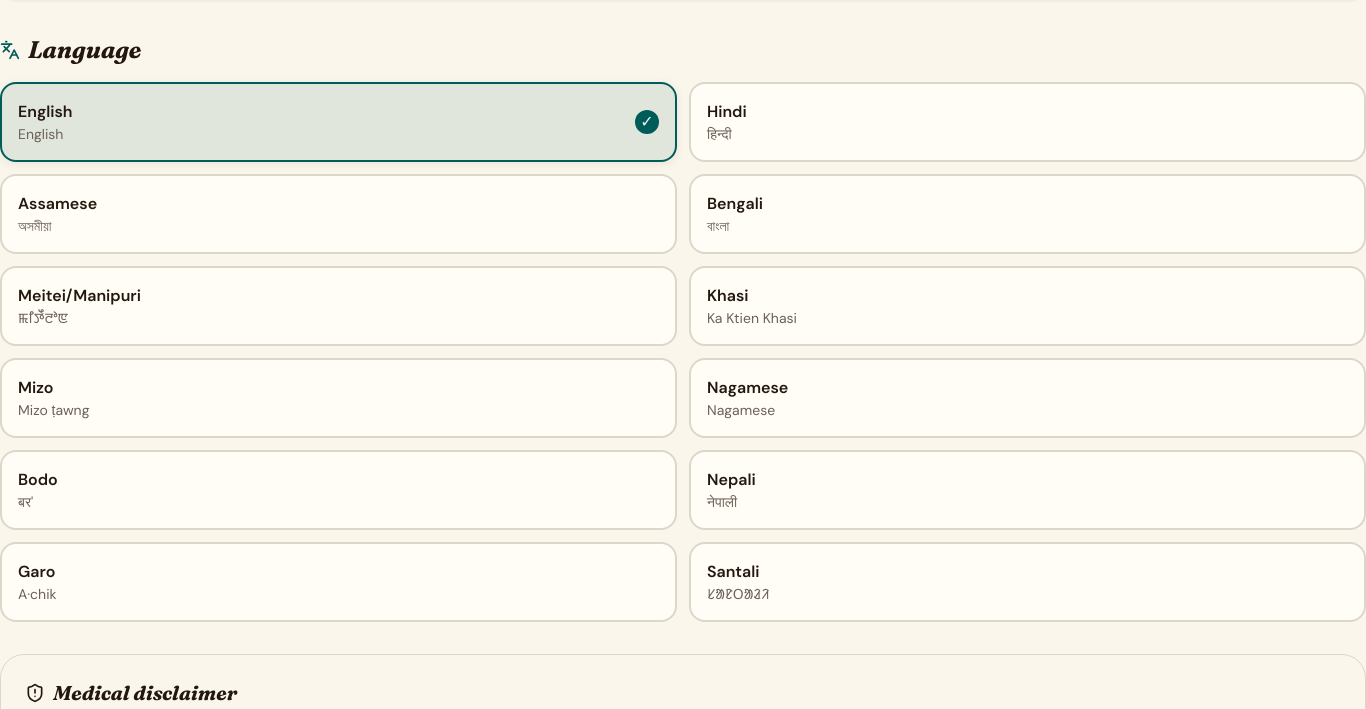
SettingsPage language picker › switches the interface to a new Northeast language when selected
(page scrolled)
Click the button with test id "settings.language.ne". click: (731, 480)
box: [689, 450, 1365, 530]
(page scrolled)
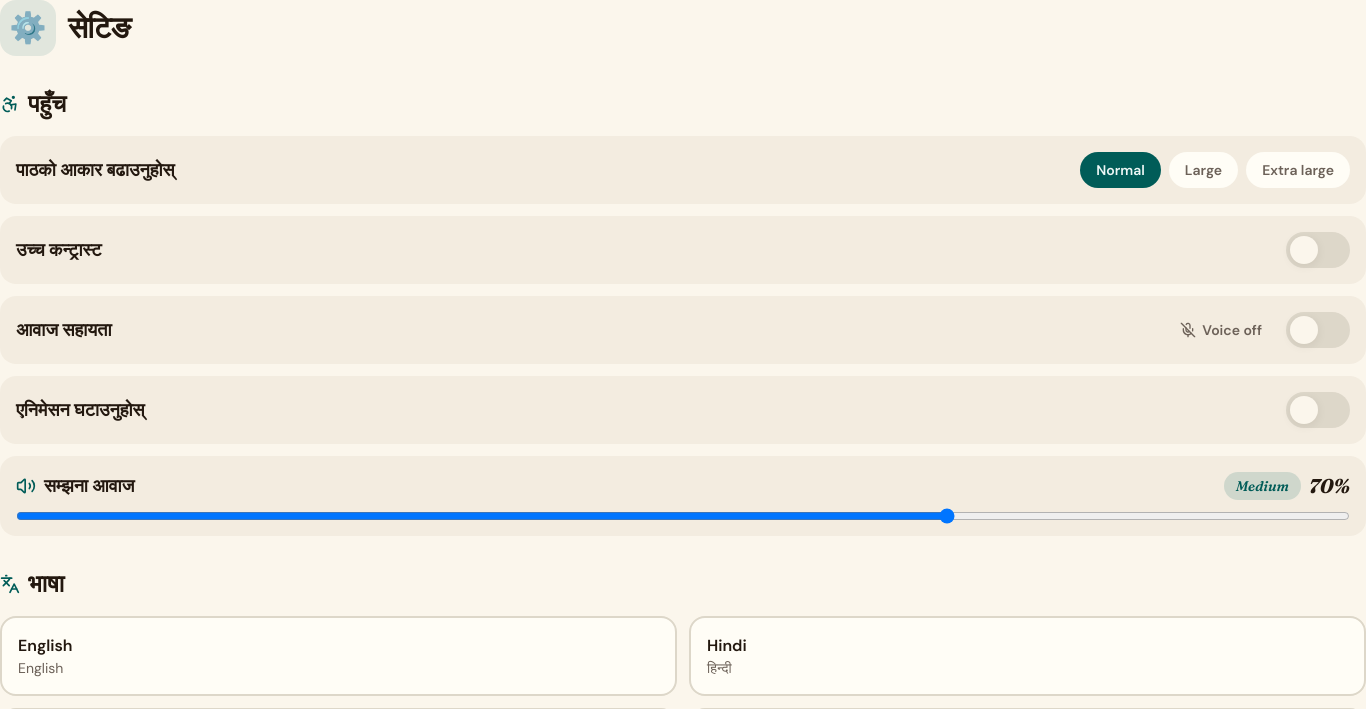
Expected: the heading "सेटिङ" is shown, [68, 10, 131, 46]
